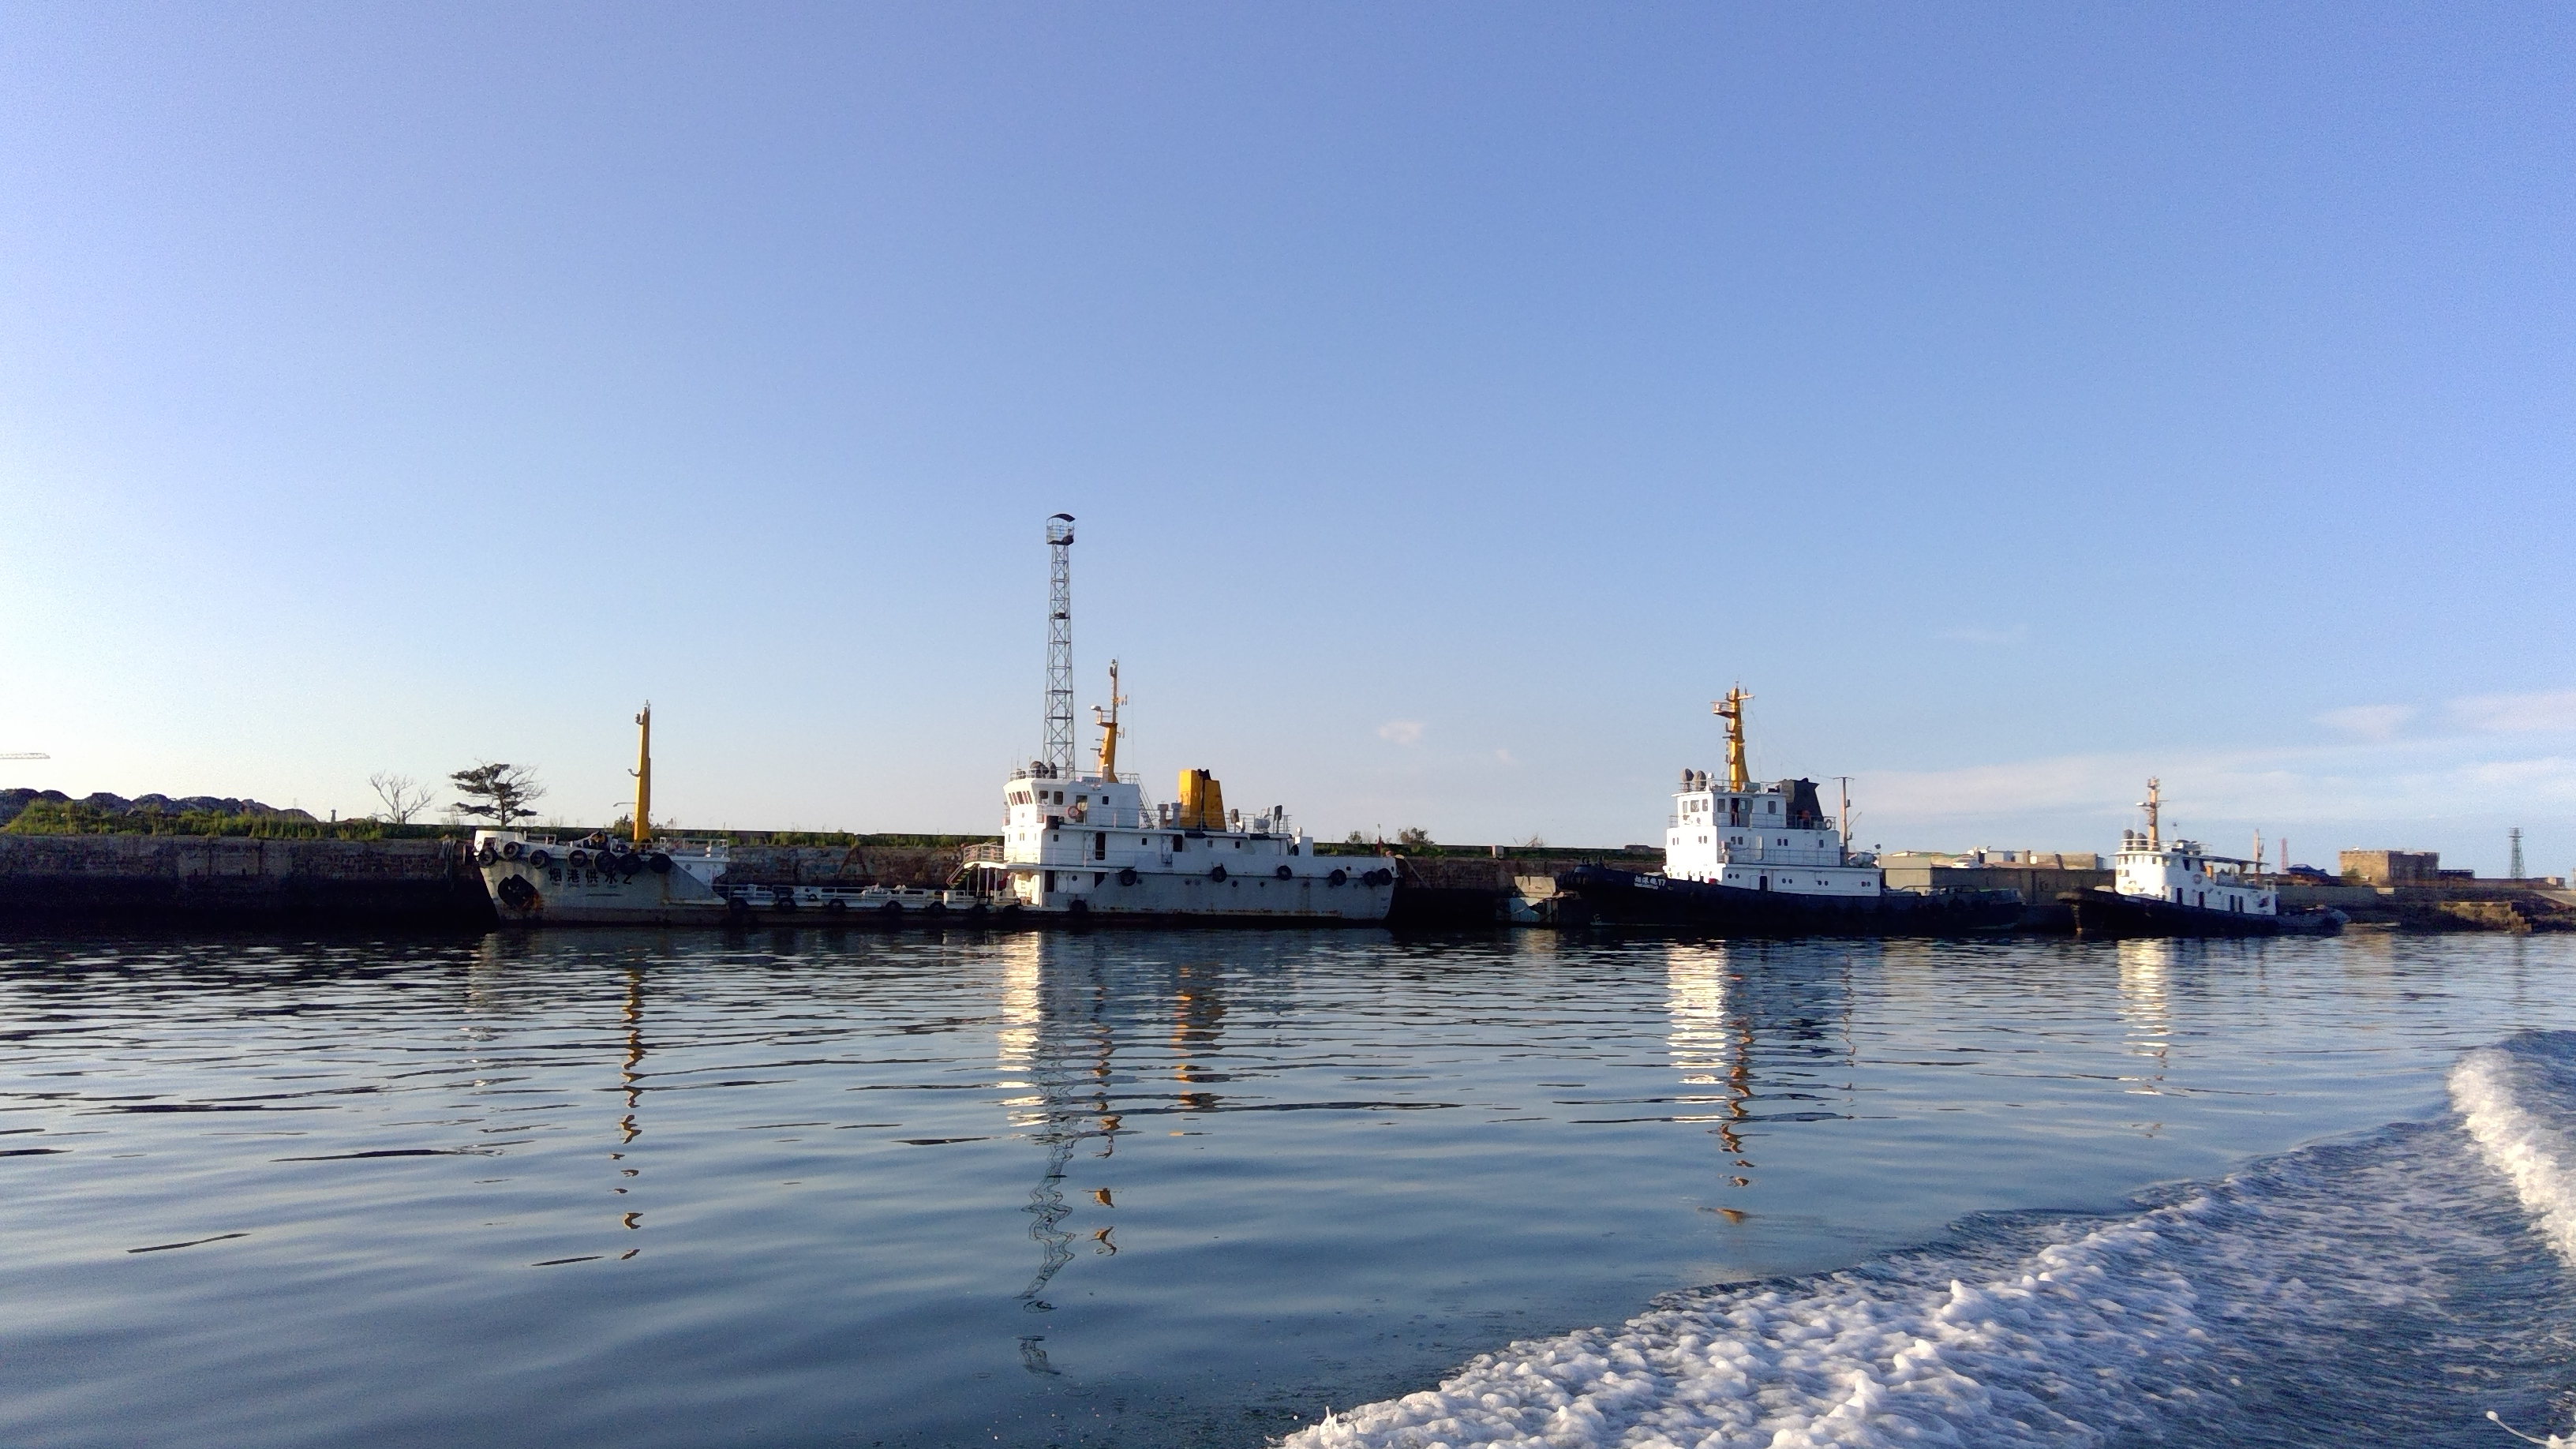ship: (1500, 747, 1973, 948), (915, 752, 1419, 932), (2031, 823, 2360, 957), (444, 835, 913, 929)
